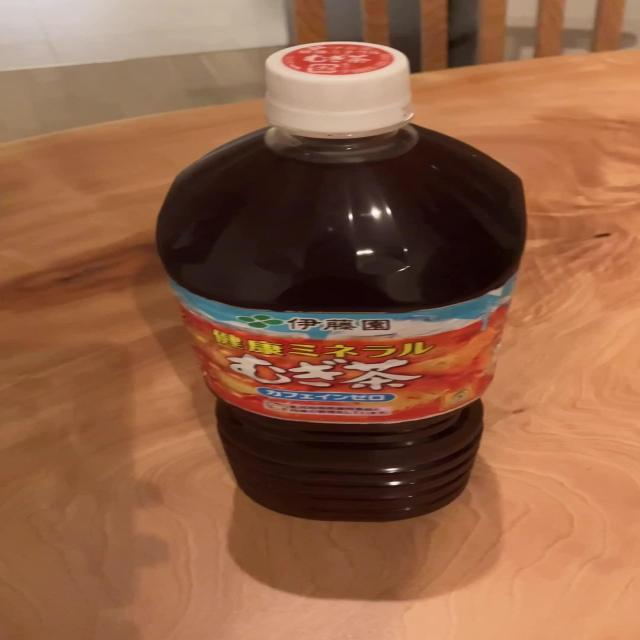good: (150, 41, 528, 524)
